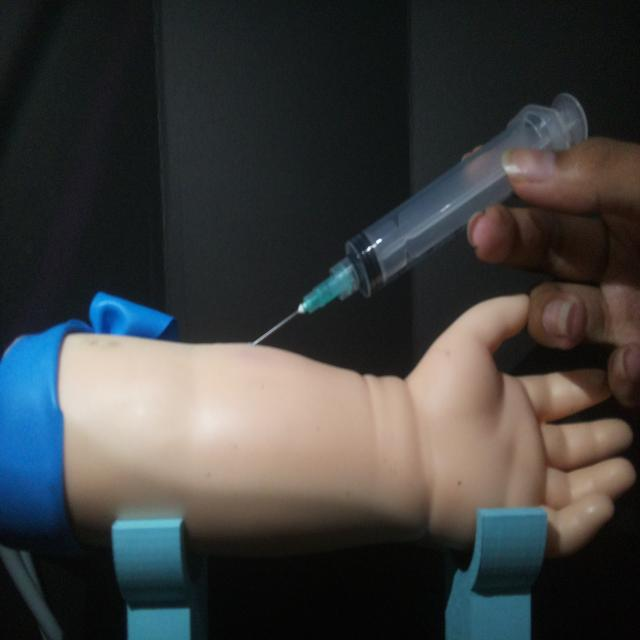28deg: (246, 87, 591, 349)
